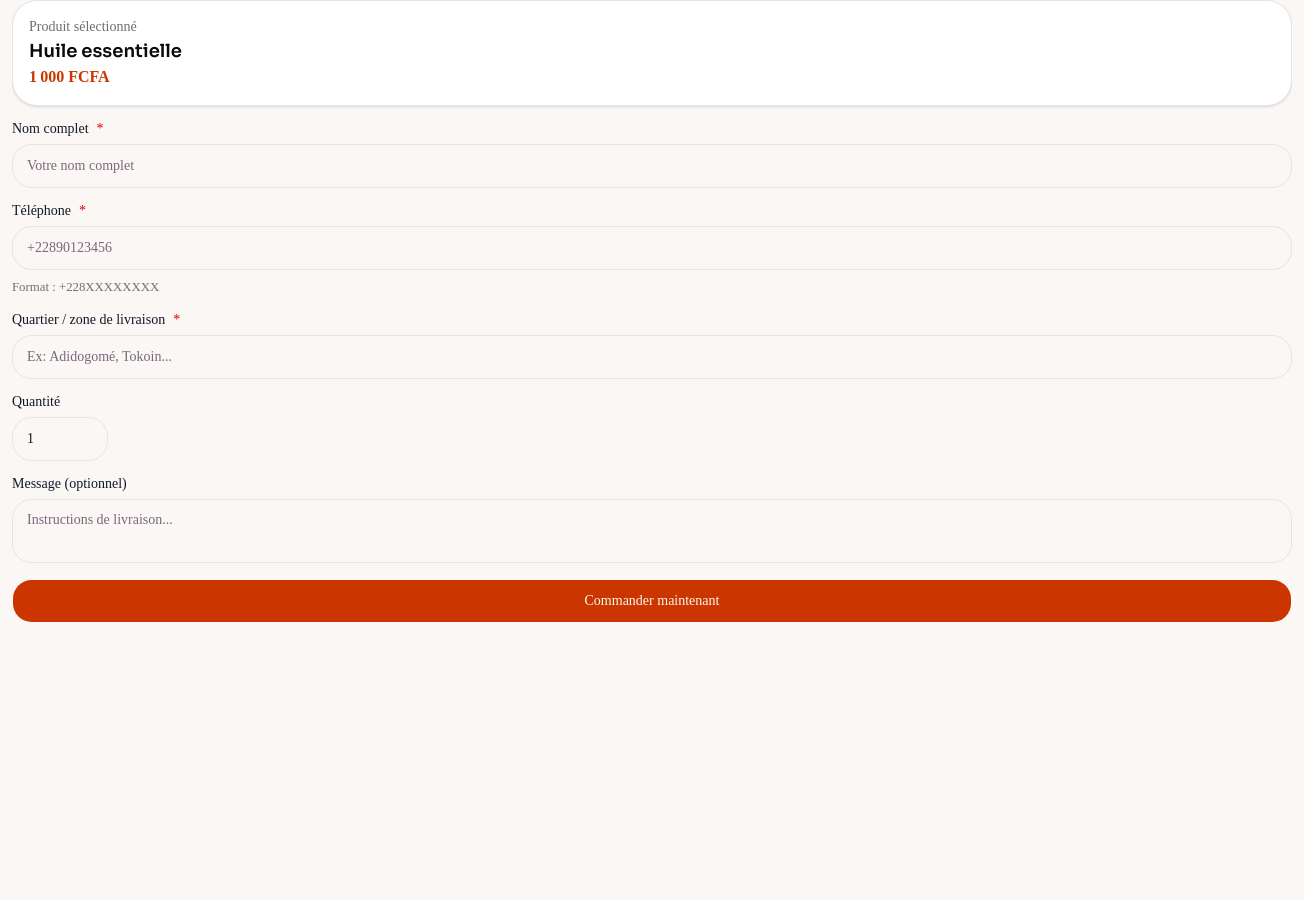
Test case: CommandeForm › n'envoie pas la commande quand le formulaire est invalide
Click the button "Commander maintenant". click: (652, 601)
box: left=12, top=579, right=1292, bottom=623
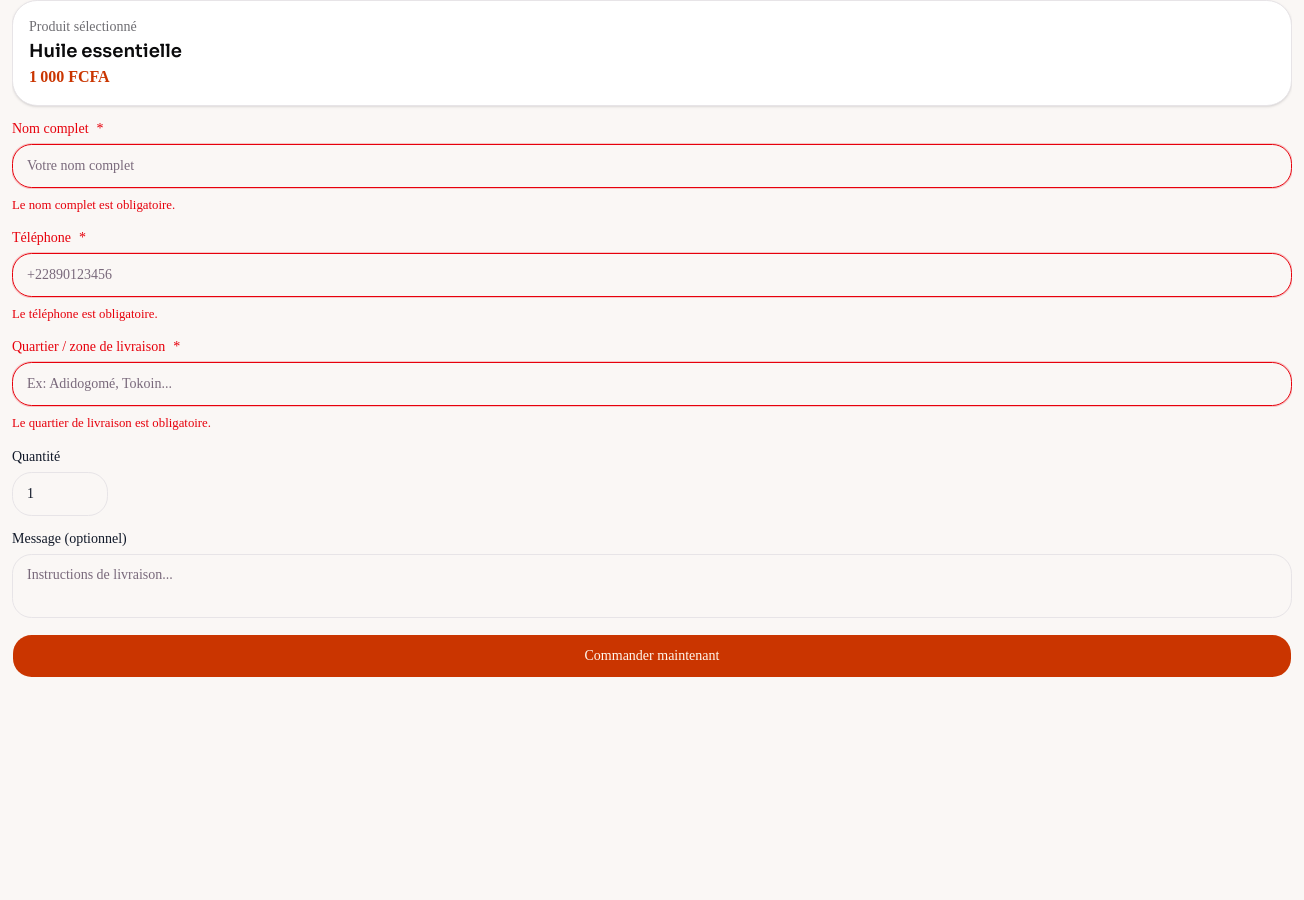
Check: the text "Le nom complet est obligatoire." is shown, box left=12, top=198, right=175, bottom=212
